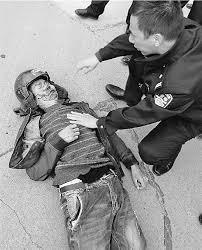Fall-Detected: (15, 62, 160, 245)
